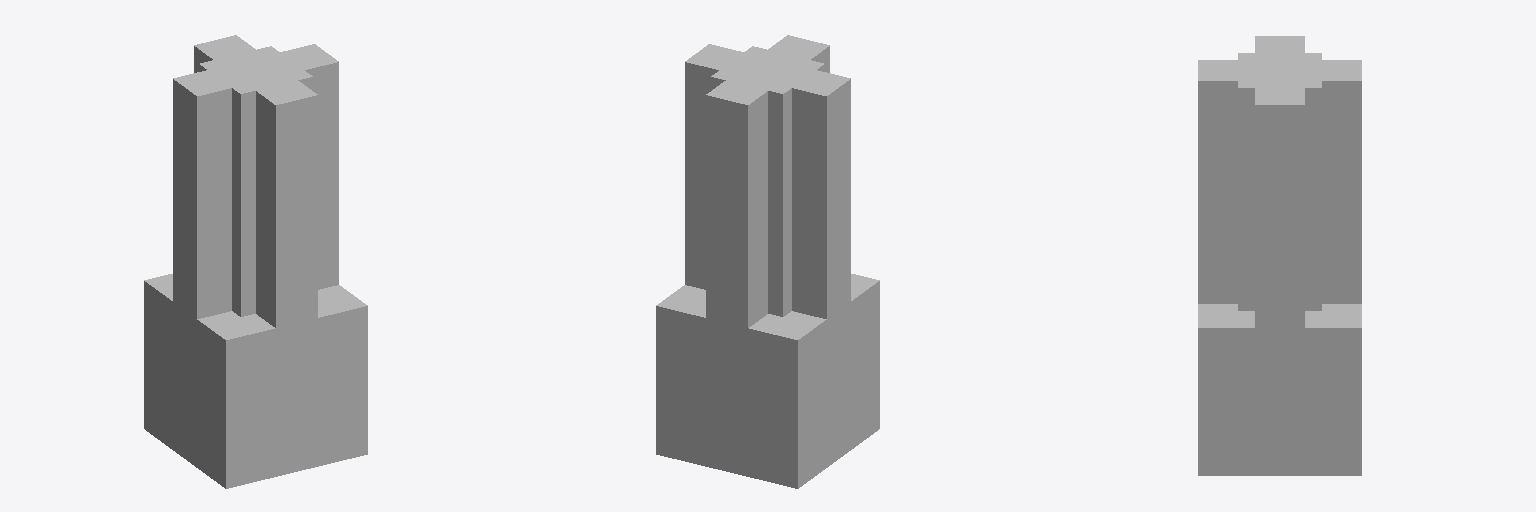
Rendered from wall4.obj.
3 views of the same model, side by side, from view 1: azimuth 30°, elevation 25°; view 2: azimuth 150°, elevation 25°; view 3: azimuth 270°, elevation 25° (orthographic).
Visible parts, largest first — view 1: Cube.001; view 2: Cube.001; view 3: Cube.001.
Boxes of the visible parts, x1=… form: Cube.001: x1=144, y1=35, x2=367, y2=488; Cube.001: x1=656, y1=35, x2=879, y2=488; Cube.001: x1=1198, y1=36, x2=1361, y2=475.
Bounding box in the file's own units: 1 × 2.5 × 1.